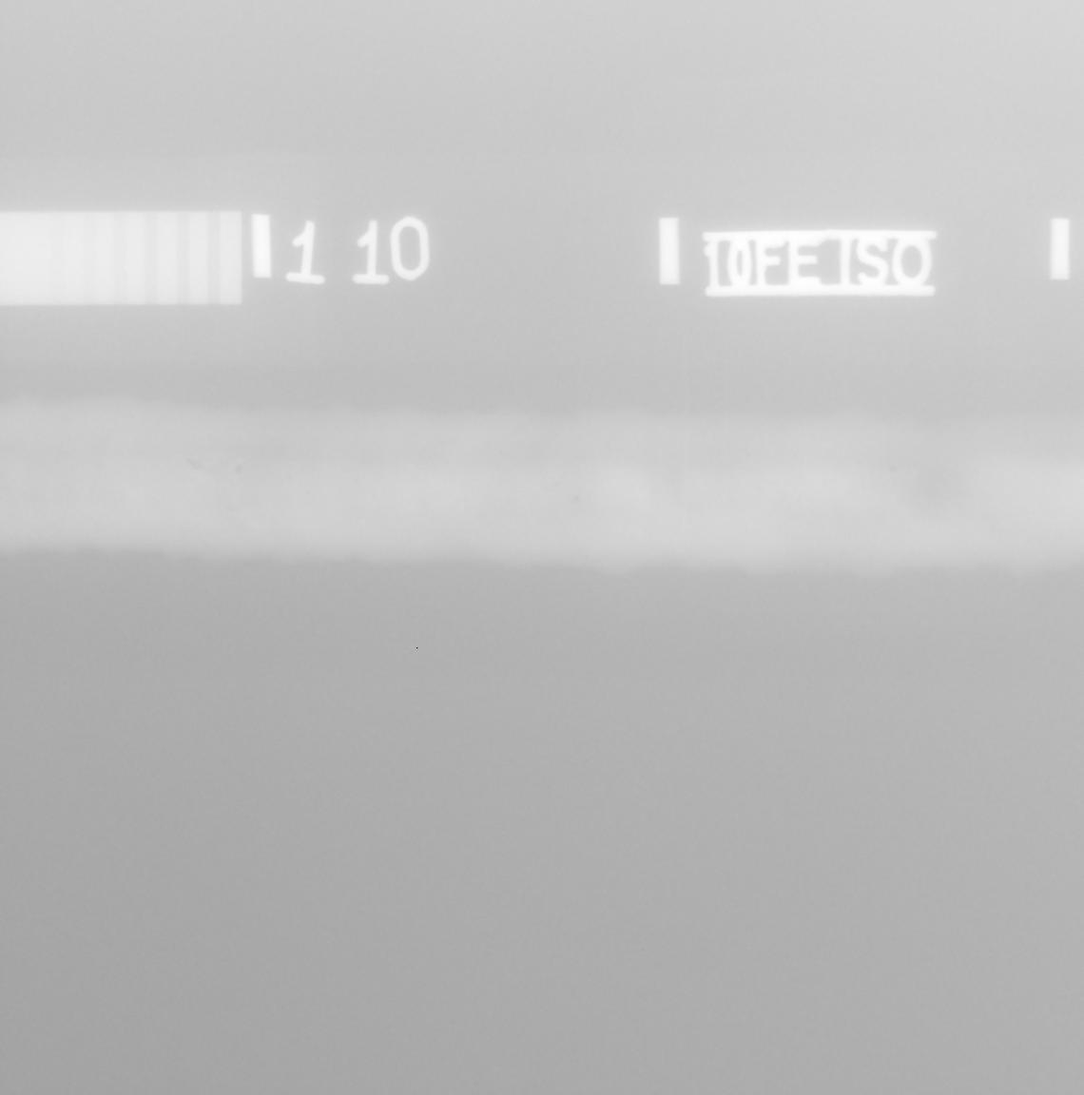Pore/Porosity: (189, 462, 204, 470), (889, 465, 897, 472), (235, 466, 241, 472), (286, 476, 293, 481), (573, 496, 578, 502), (786, 504, 791, 509), (745, 454, 750, 458), (553, 483, 558, 487), (756, 487, 761, 490), (652, 489, 656, 492), (306, 490, 309, 494), (545, 488, 548, 491), (784, 494, 786, 498)
Shrinkage Depression: (901, 467, 964, 520)
